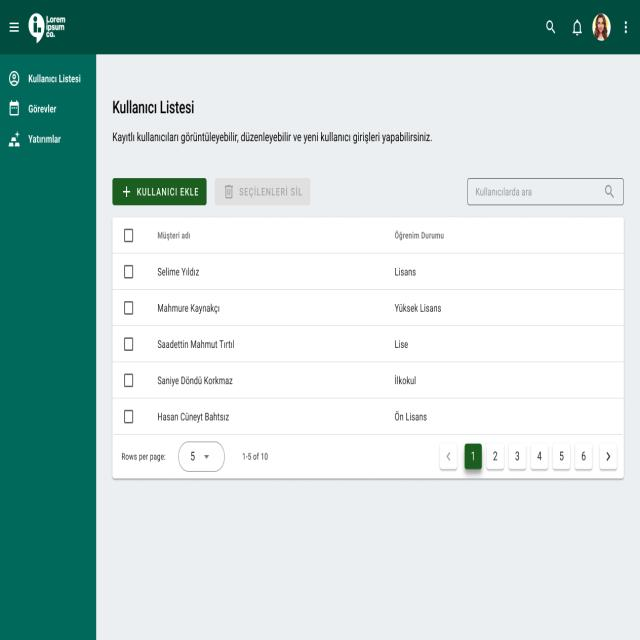QLabel: (110, 130, 432, 146), (109, 98, 197, 115), (235, 185, 305, 198), (135, 186, 200, 198)
QMenu: (0, 54, 96, 640)
VAppBar: (0, 0, 640, 54)
VAvatar: (592, 13, 612, 41)
VBtn: (111, 178, 208, 206), (214, 178, 311, 206)
VDataTable: (111, 215, 627, 482)
VIcon: (572, 19, 582, 35), (546, 20, 556, 35), (224, 184, 233, 198), (9, 22, 20, 33), (123, 186, 130, 197), (624, 21, 628, 34)
VImg: (26, 11, 66, 44)
VTextField: (467, 177, 625, 207)
